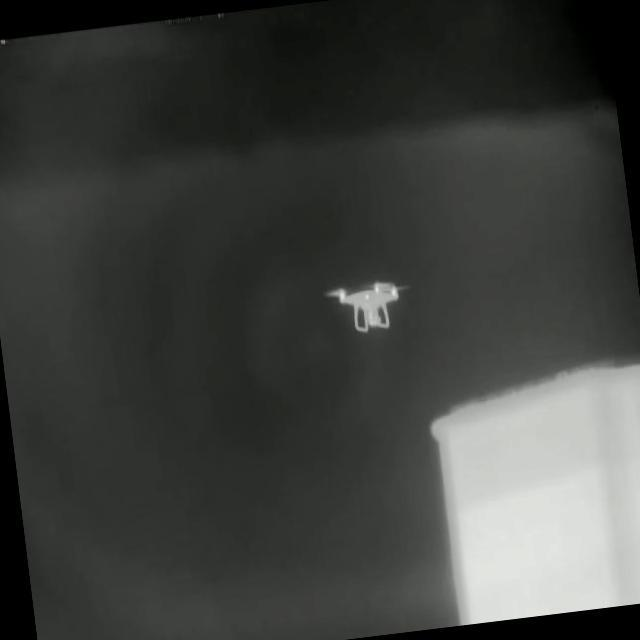DRONE: (323, 279, 415, 334)
